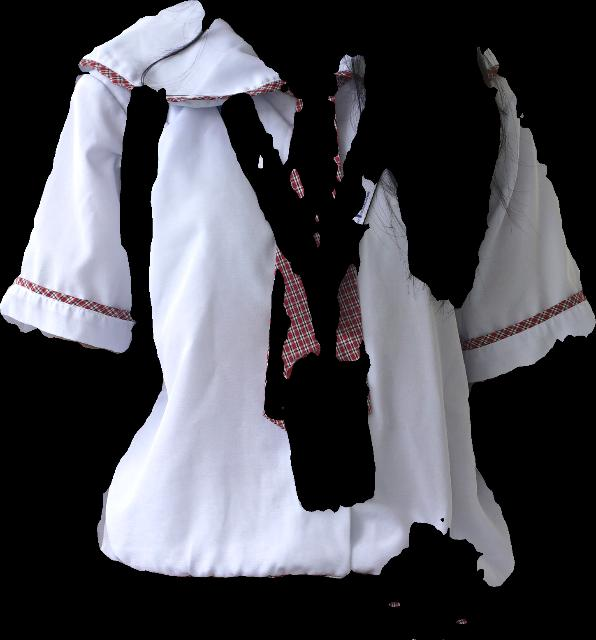pologirl: (0, 0, 595, 586)
